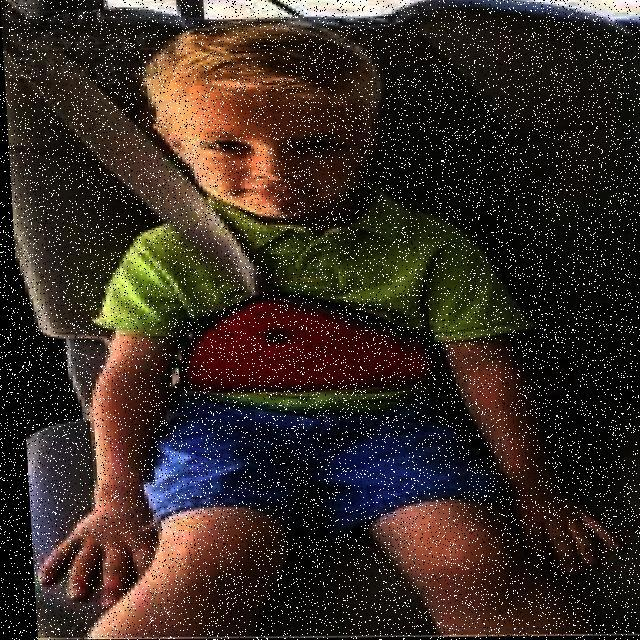seatbelt: (66, 148, 500, 404)
